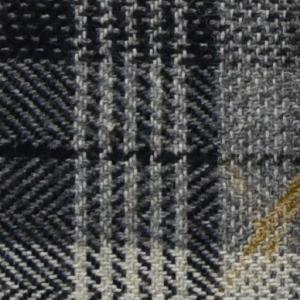Stain: (207, 162, 300, 300)
